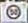limite 50: (4, 4, 21, 18)
